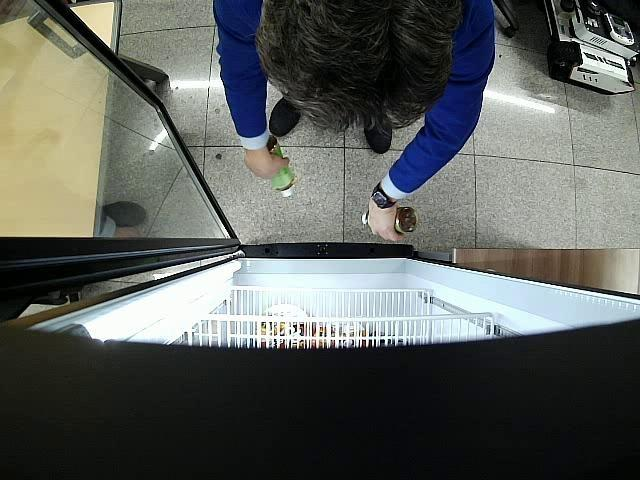19_17cha: (266, 134, 294, 198), (362, 206, 417, 234)
